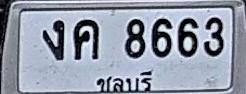3: (204, 16, 224, 56)
6: (151, 18, 172, 58), (178, 16, 198, 56)
8: (124, 18, 144, 58)
A04: (73, 19, 99, 59)
A07: (42, 19, 64, 60)
CBI: (91, 69, 155, 93)
